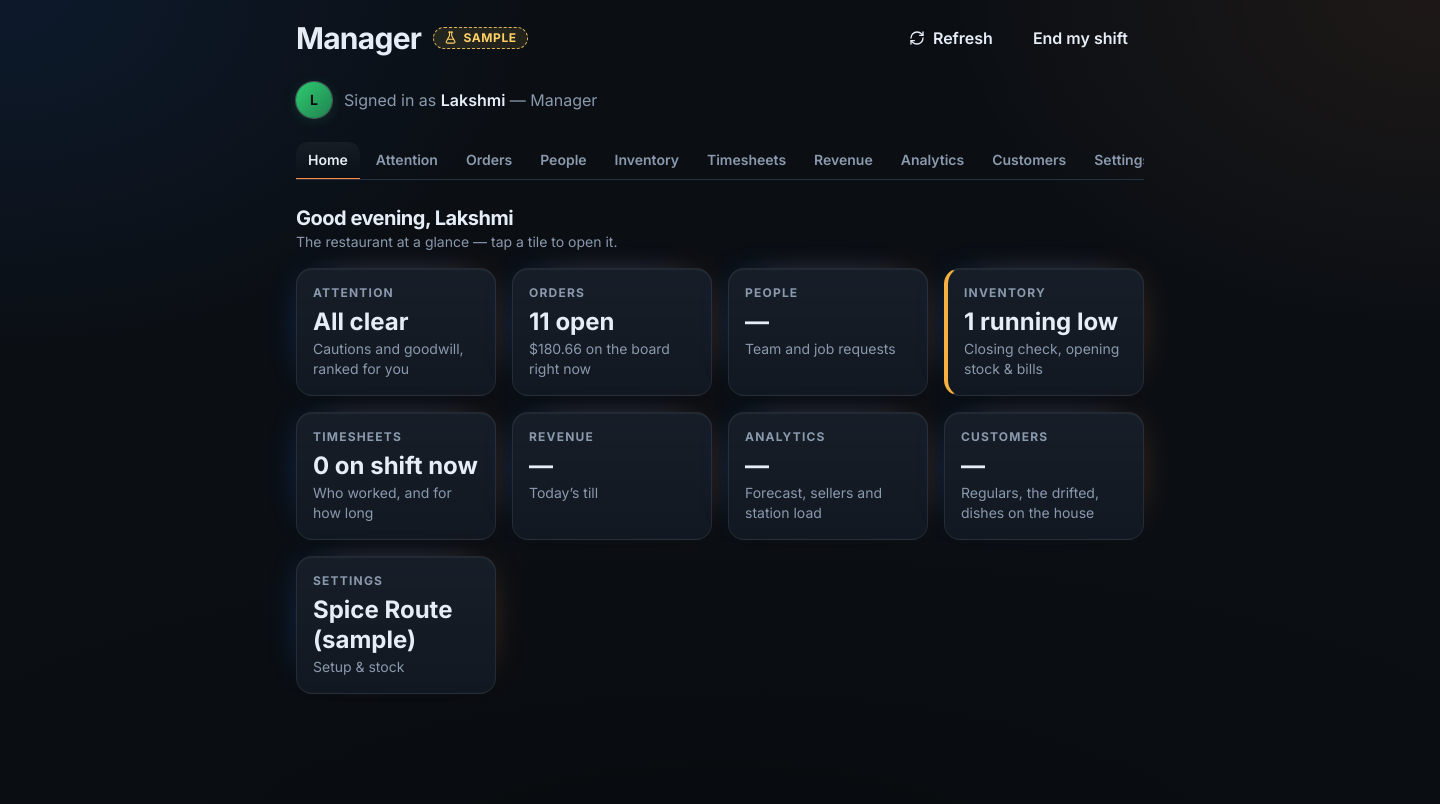
Test: correlation_cards_lead_attention_and_analytics_shows_the_working
The width and height of the screenshot is (1440, 804).
Step 1. Click the tab "Attention" → (407, 161), box [364,142,450,180]
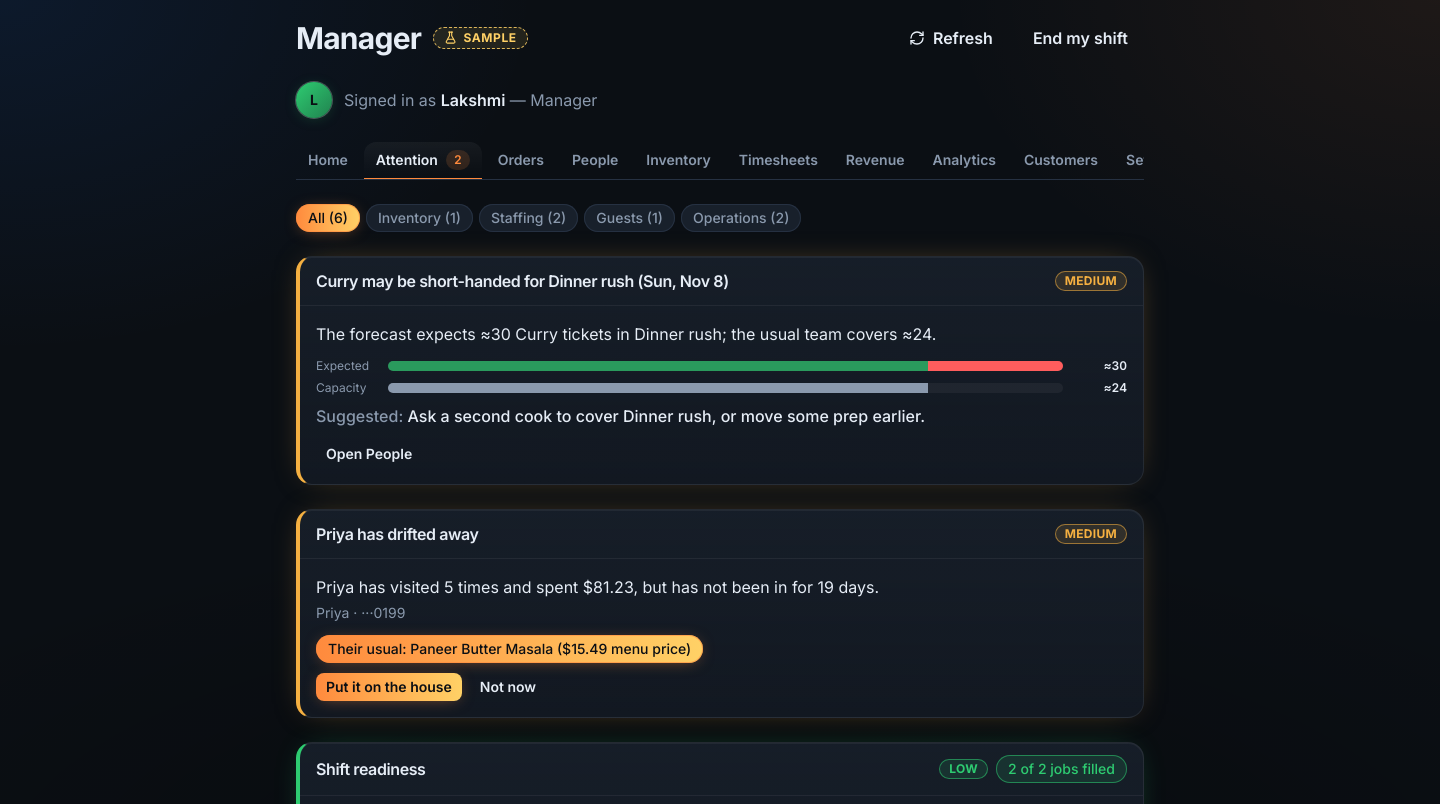
Expected: the heading "Curry may be short-handed for Dinner rush (Sun, Nov 8)" is shown, [316,269,729,293]
Expected: the text "usual team covers ≈24" is shown, [316,324,936,344]
Step 2. Click the tab "Analytics" → (964, 161), box [920,142,1008,180]
(page scrolled)
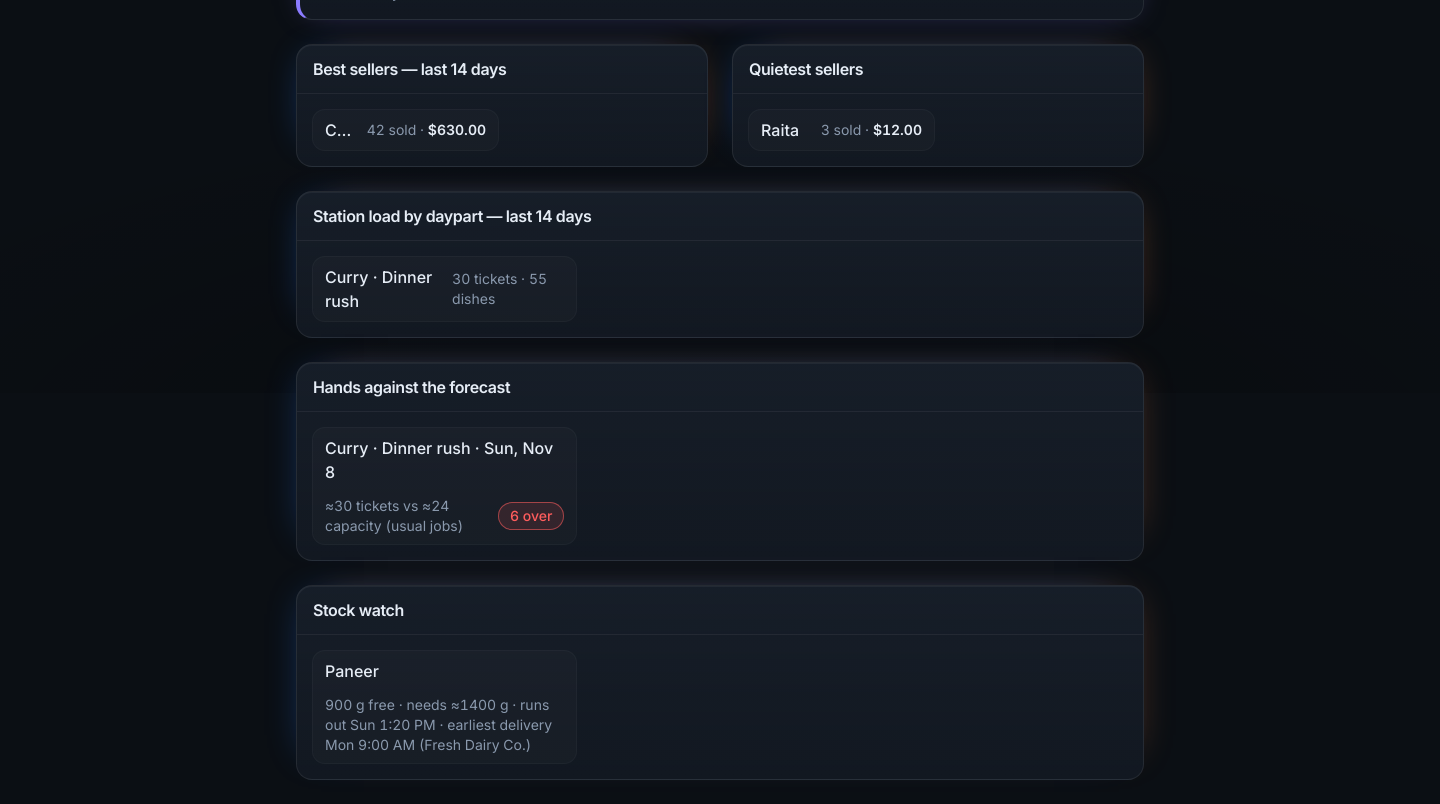
Expected: the text "Paneer" is shown, [325,659,379,683]
Expected: the text "Chicken Biryani" is shown, [325,118,355,142]
Expected: the text "6 over" is shown, [498,502,564,530]
